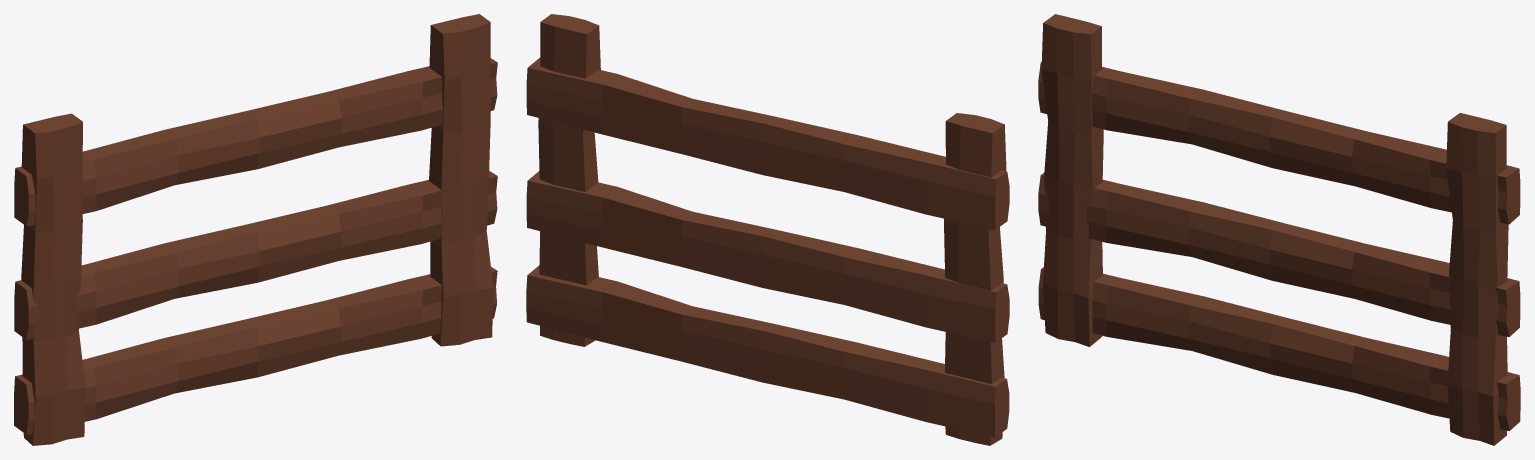
The model's file is fence.fbx.
3 views of the same model, side by side, from view 1: azimuth 30°, elevation 25°; view 2: azimuth 150°, elevation 25°; view 3: azimuth 330°, elevation 25° (orthographic).
Parts seen in each view (by area): view 1: plank.001, plank.002, plank, plank.004, plank.003; view 2: plank, plank.002, plank.001, plank.004, plank.003; view 3: plank.001, plank.002, plank, plank.004, plank.003.
Boxes of the visible parts, bbox=[...] form: plank.001: bbox=[14, 170, 497, 339]; plank.002: bbox=[14, 58, 497, 226]; plank: bbox=[14, 267, 497, 434]; plank.004: bbox=[429, 14, 493, 346]; plank.003: bbox=[21, 113, 85, 445]; plank: bbox=[526, 265, 1009, 437]; plank.002: bbox=[526, 57, 1009, 229]; plank.001: bbox=[526, 171, 1009, 342]; plank.004: bbox=[538, 14, 600, 346]; plank.003: bbox=[944, 113, 1006, 445]; plank.001: bbox=[1038, 173, 1520, 336]; plank.002: bbox=[1038, 62, 1520, 224]; plank: bbox=[1038, 267, 1520, 430]; plank.004: bbox=[1446, 113, 1508, 445]; plank.003: bbox=[1041, 14, 1103, 346].
Bounding box in the file's own units: 732 × 468 × 52.68.
